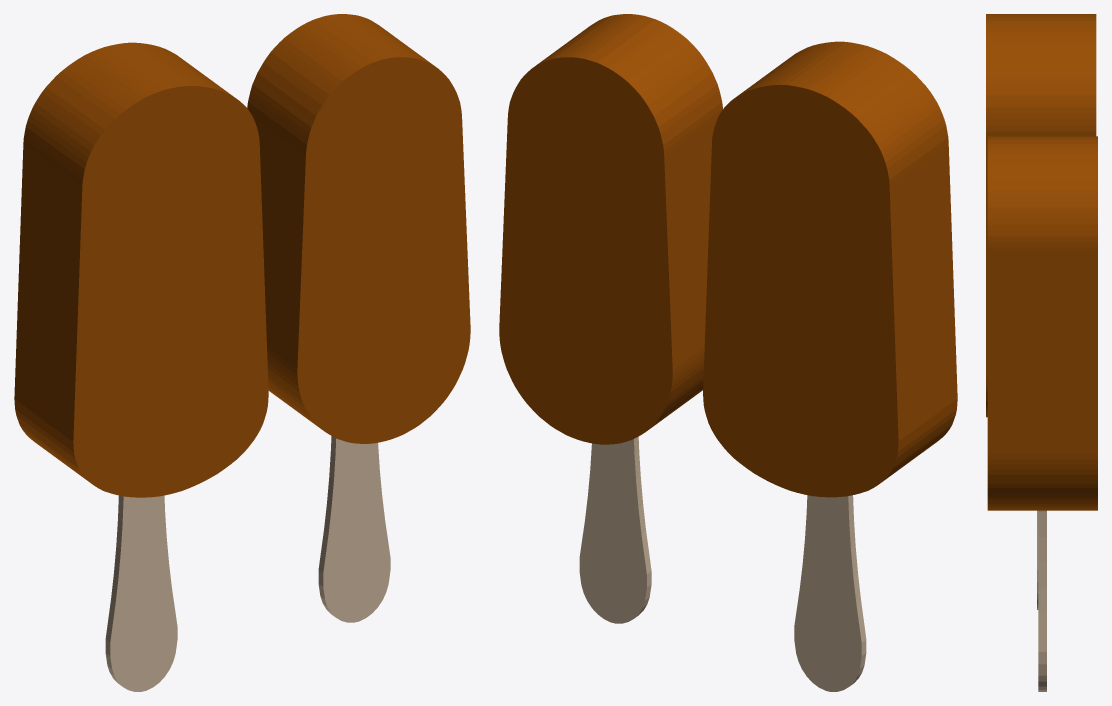
File: Main extruder2 double new.dae
3 renders of one model, left to right at view 1: azimuth 30°, elevation 25°; view 2: azimuth 150°, elevation 25°; view 3: azimuth 270°, elevation 25°, orthographic. The views are drawn at different scales.
Parts seen in each view (by area): view 1: group_7, group_1, group_4 (×2); view 2: group_7, group_1, group_4 (×2); view 3: group_1, group_7, group_4 (×2).
Part boxes in pixels (x1=…): group_7: x1=14, y1=42, x2=268, y2=497; group_1: x1=247, y1=14, x2=470, y2=443; group_4 (×2): x1=105, y1=436, x2=390, y2=691; group_7: x1=703, y1=41, x2=957, y2=497; group_1: x1=499, y1=14, x2=722, y2=444; group_4 (×2): x1=579, y1=436, x2=866, y2=691; group_1: x1=987, y1=136, x2=1097, y2=510; group_7: x1=986, y1=14, x2=1096, y2=417; group_4 (×2): x1=1037, y1=510, x2=1046, y2=691.
Size of the model in its own units: 3.83 by 0.9965 by 5.73.
